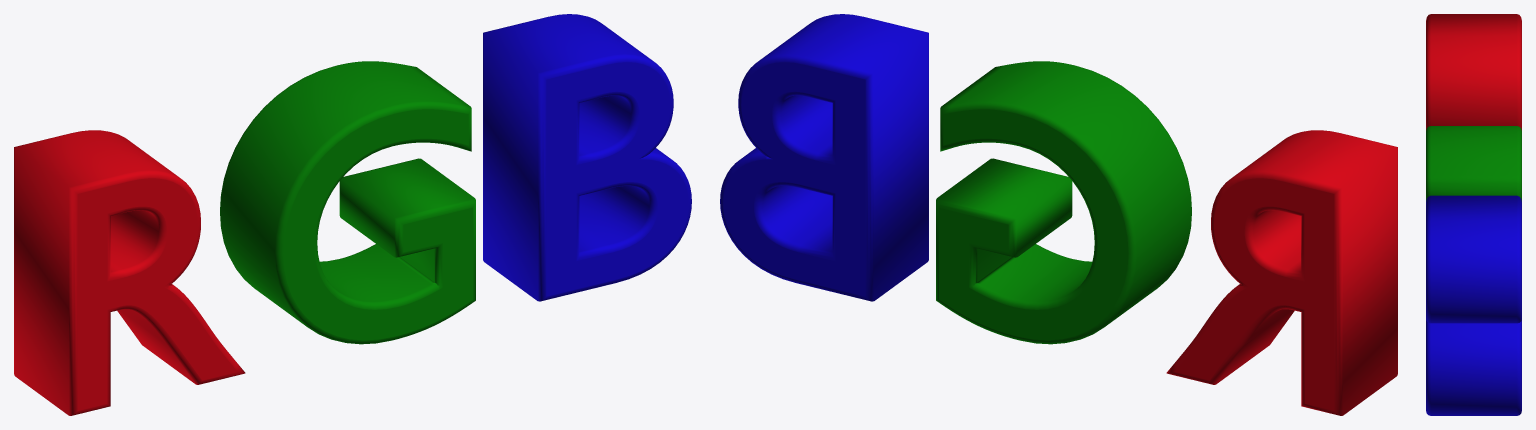
Rendered from rgb.dae.
The picture shows the model from 3 angles, left to right: view 1: azimuth 30°, elevation 25°; view 2: azimuth 150°, elevation 25°; view 3: azimuth 270°, elevation 25°; orthographic projection. The views are drawn at different scales.
Visible parts, largest first — view 1: LETTER_G, LETTER_B, LETTER_R; view 2: LETTER_G, LETTER_B, LETTER_R; view 3: LETTER_B, LETTER_R, LETTER_G.
Boxes of the visible parts, x1,y1,x2,y2 form: LETTER_G: [220, 61, 475, 344]; LETTER_B: [483, 14, 691, 301]; LETTER_R: [14, 130, 245, 415]; LETTER_G: [936, 61, 1191, 344]; LETTER_B: [720, 14, 928, 301]; LETTER_R: [1166, 130, 1397, 415]; LETTER_B: [1426, 195, 1521, 415]; LETTER_R: [1426, 14, 1521, 130]; LETTER_G: [1426, 126, 1521, 201].
Size of what is drawn, in the model's own units: 3.6 by 0.605 by 1.29.
